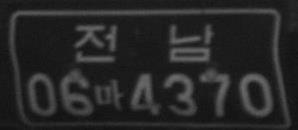0: (238, 72, 275, 117), (27, 71, 57, 117)
3: (162, 72, 198, 117)
4: (129, 72, 161, 115)
6: (57, 68, 94, 117)
7: (198, 72, 231, 118)
마: (95, 78, 125, 112)
전남_D: (74, 22, 214, 63)
